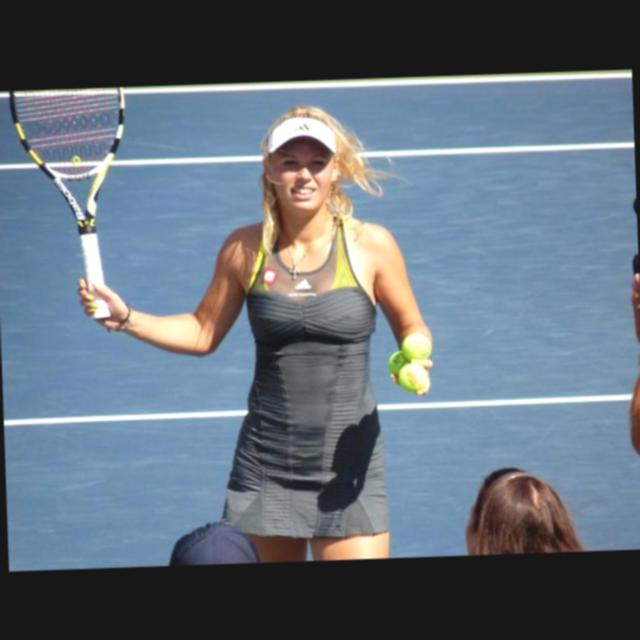tennis-ball: (397, 364, 428, 394), (400, 333, 430, 361)
